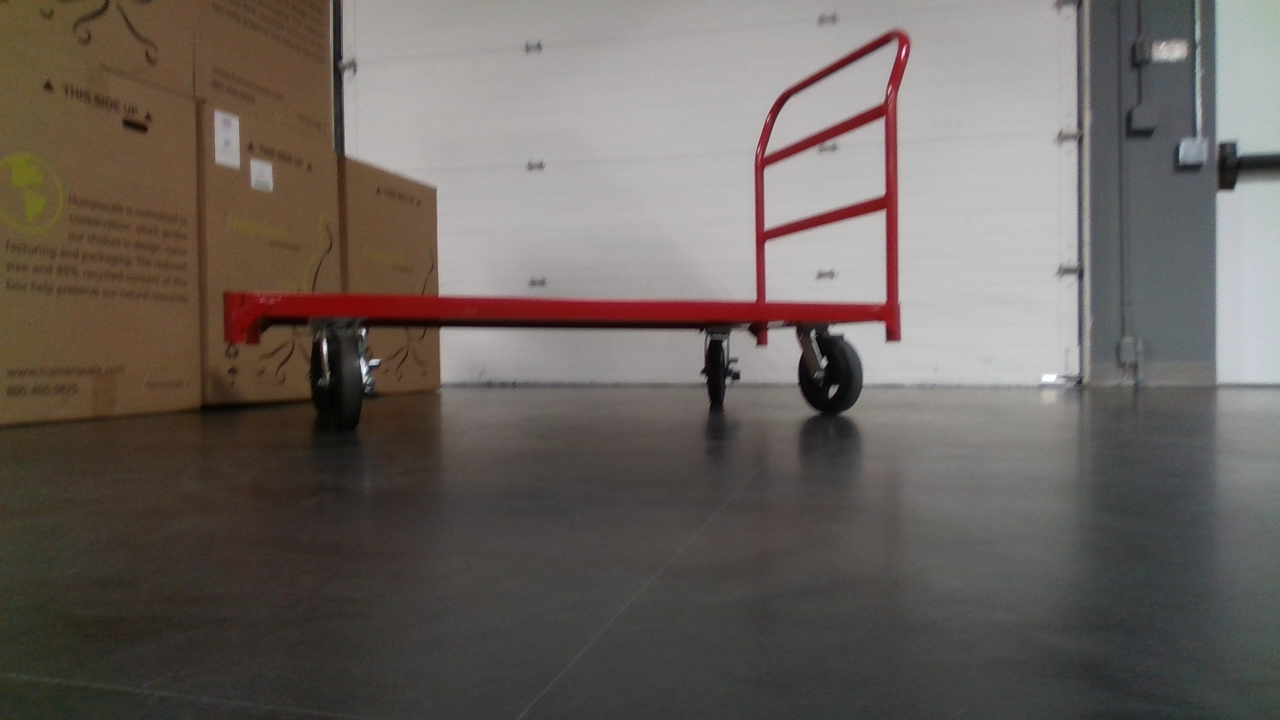Dolly: (224, 24, 912, 435)
Wheel: (309, 321, 373, 433), (795, 331, 866, 414), (699, 331, 740, 406)
